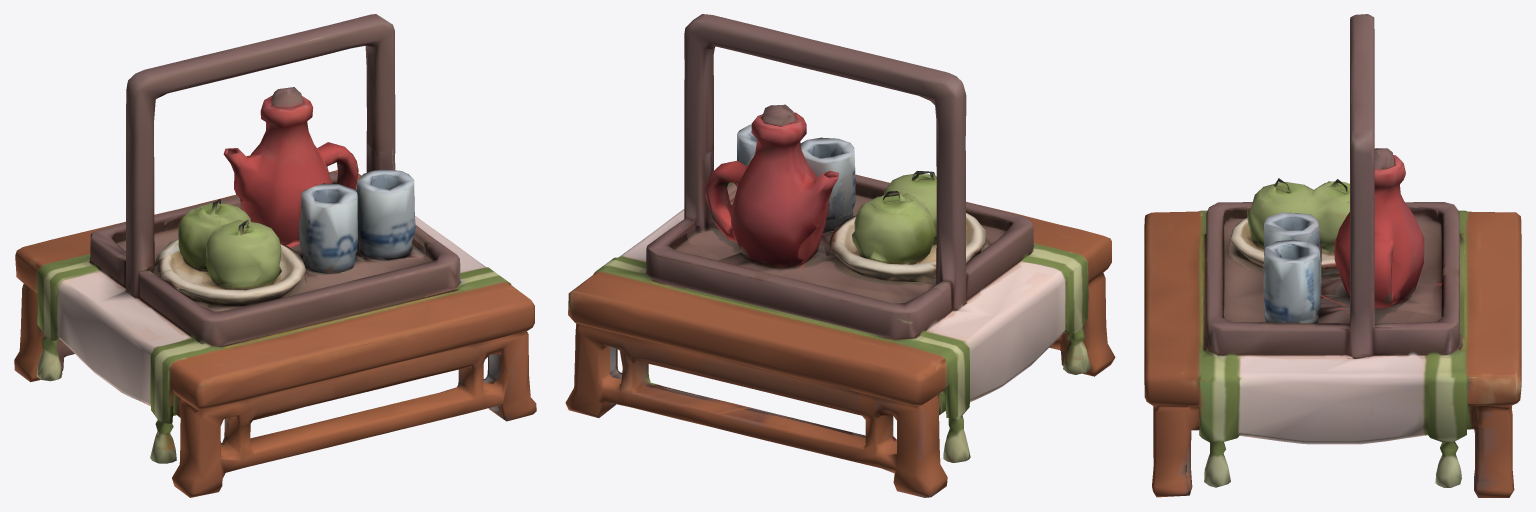
File: TeaSetTable.glb
The picture shows the model from 3 angles, left to right: view 1: azimuth 30°, elevation 25°; view 2: azimuth 150°, elevation 25°; view 3: azimuth 270°, elevation 25°; orthographic projection. The views are drawn at different scales.
Parts seen in each view (by area): view 1: Mesh_0; view 2: Mesh_0; view 3: Mesh_0.
Part boxes in pixels (left/top/right/bottom): Mesh_0: left=14, top=14, right=536, bottom=497; Mesh_0: left=565, top=14, right=1115, bottom=497; Mesh_0: left=1144, top=14, right=1521, bottom=497.
Size of the model in its own units: 1.91 by 1.71 by 1.72.
1 material, 1 textured.
